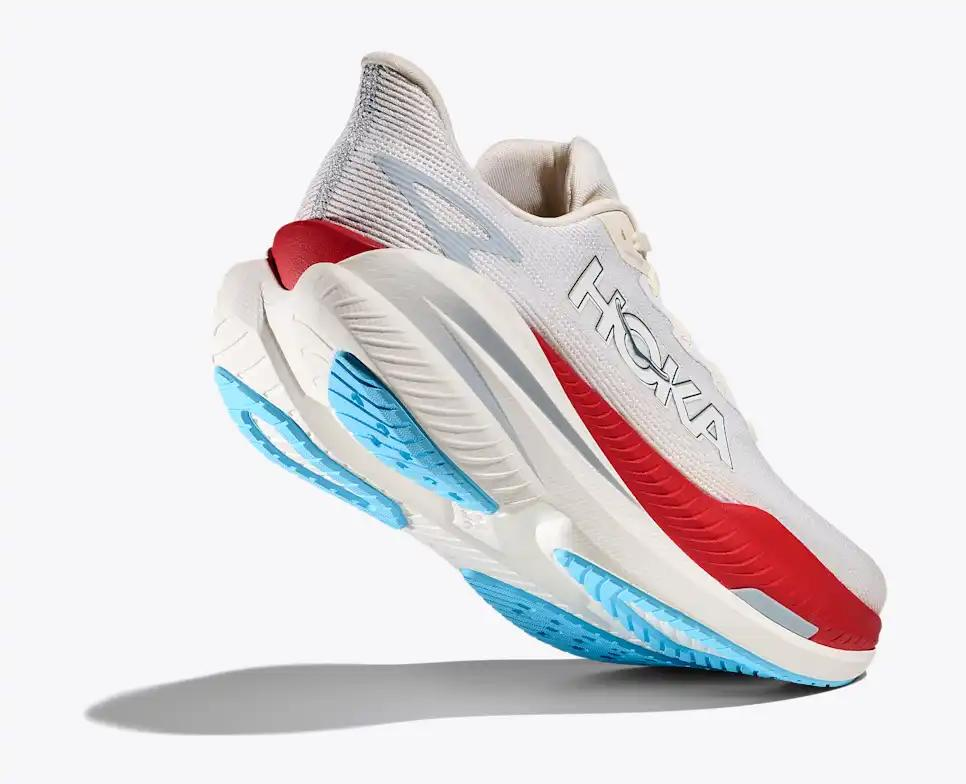hoka logo: (549, 231, 750, 496)
